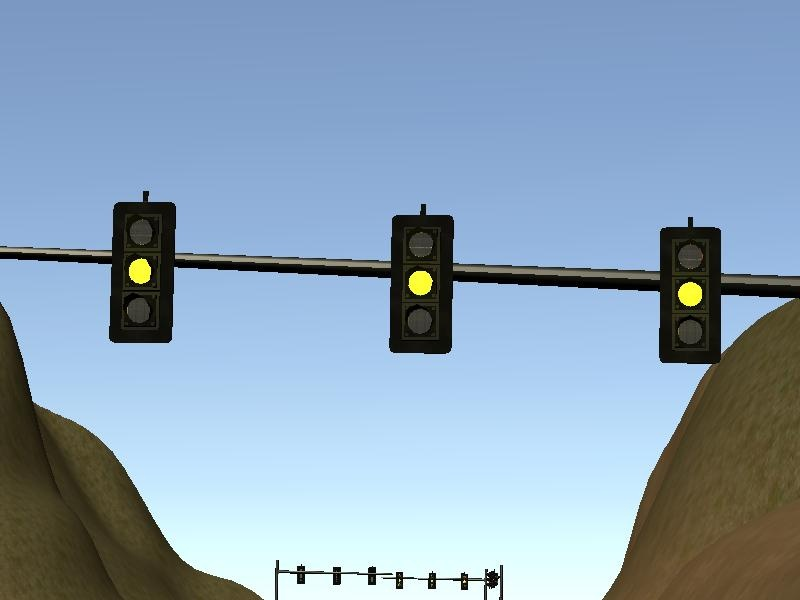yellow: (382, 203, 464, 368), (100, 187, 182, 350), (651, 213, 727, 372)
